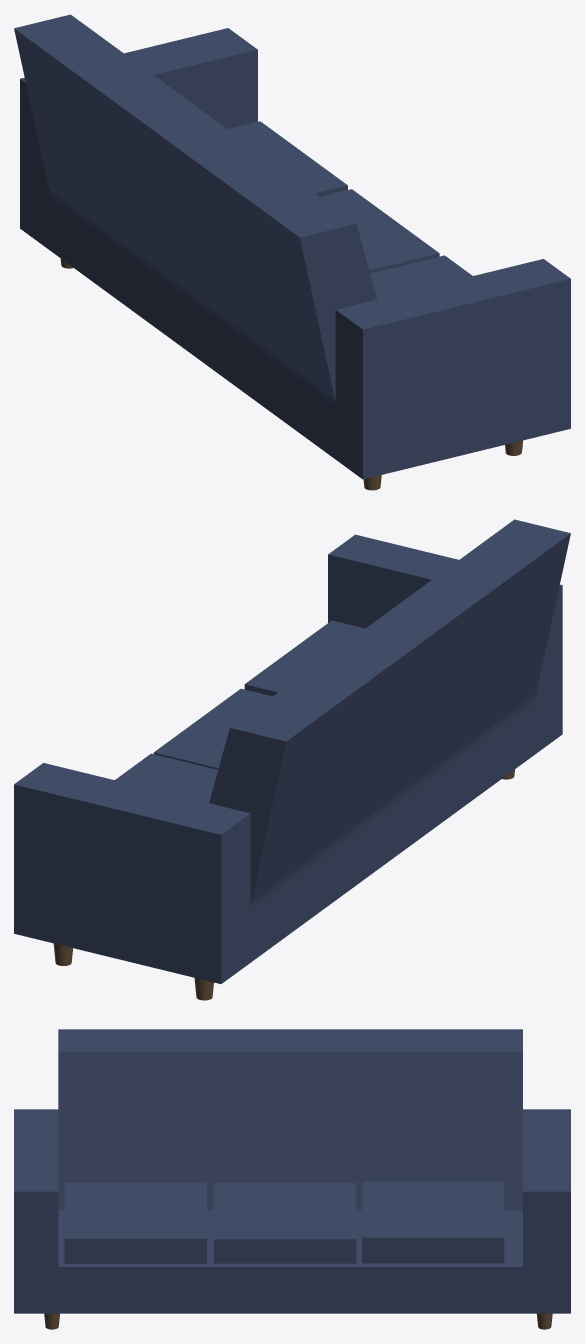
Rendered from couch_3.fbx.
The picture shows the model from 3 angles, top to bottom: view 1: azimuth 30°, elevation 25°; view 2: azimuth 150°, elevation 25°; view 3: azimuth 270°, elevation 25°; orthographic projection. The views are drawn at different scales.
Parts seen in each view (by area): view 1: couch_body, couch_cushion_2, couch_cushion_3, couch_cushion_1; view 2: couch_body, couch_cushion_2, couch_cushion_1, couch_cushion_3; view 3: couch_body, couch_cushion_3, couch_cushion_1, couch_cushion_2.
Part boxes in pixels (bbox=[...]): couch_body: bbox=[14, 14, 570, 490]; couch_cushion_2: bbox=[320, 189, 439, 273]; couch_cushion_3: bbox=[228, 121, 347, 196]; couch_cushion_1: bbox=[370, 255, 472, 299]; couch_body: bbox=[14, 519, 570, 1000]; couch_cushion_2: bbox=[153, 688, 272, 769]; couch_cushion_1: bbox=[244, 620, 364, 696]; couch_cushion_3: bbox=[115, 753, 217, 802]; couch_body: bbox=[14, 1029, 570, 1329]; couch_cushion_3: bbox=[362, 1181, 504, 1263]; couch_cushion_1: bbox=[64, 1182, 206, 1263]; couch_cushion_2: bbox=[214, 1183, 356, 1263].
Size of the model in its own units: 22.7 by 23.44 by 55.27.
